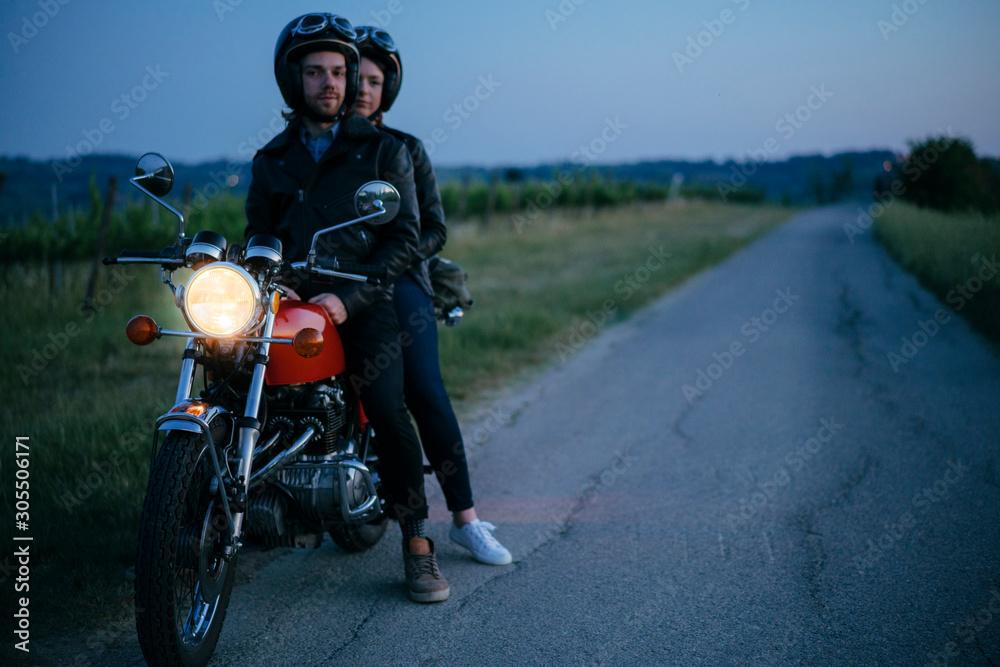helmet: (272, 11, 361, 126), (327, 23, 404, 128)
